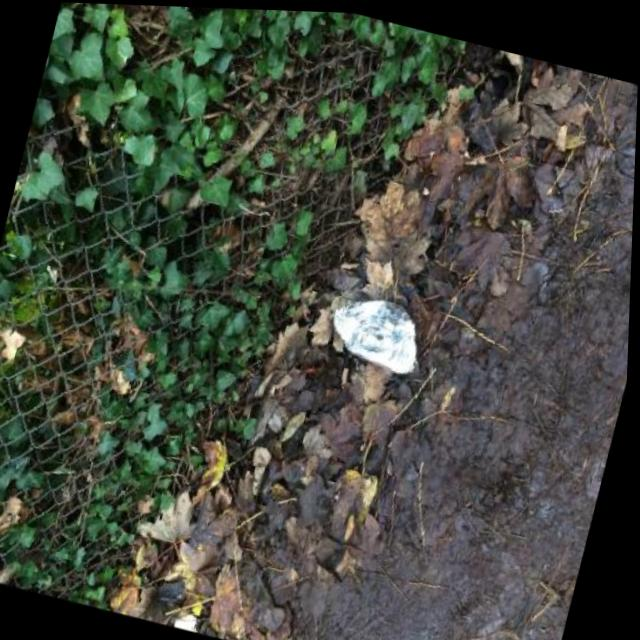metal: (320, 288, 429, 379)
